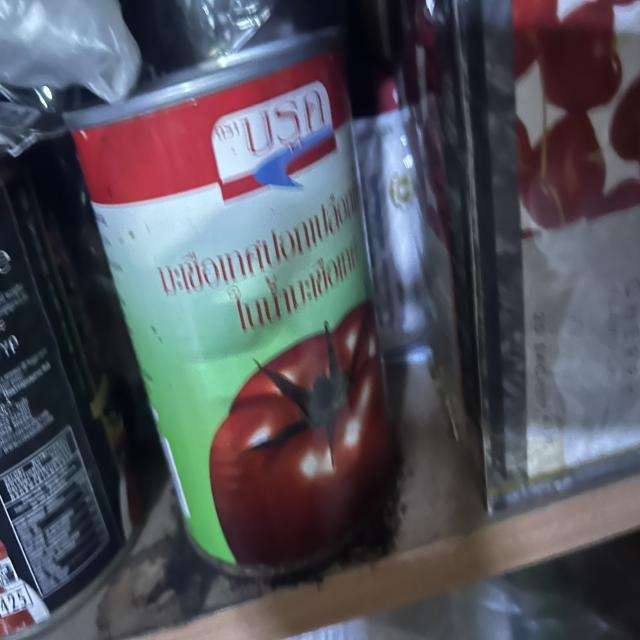can: (74, 32, 424, 611)
